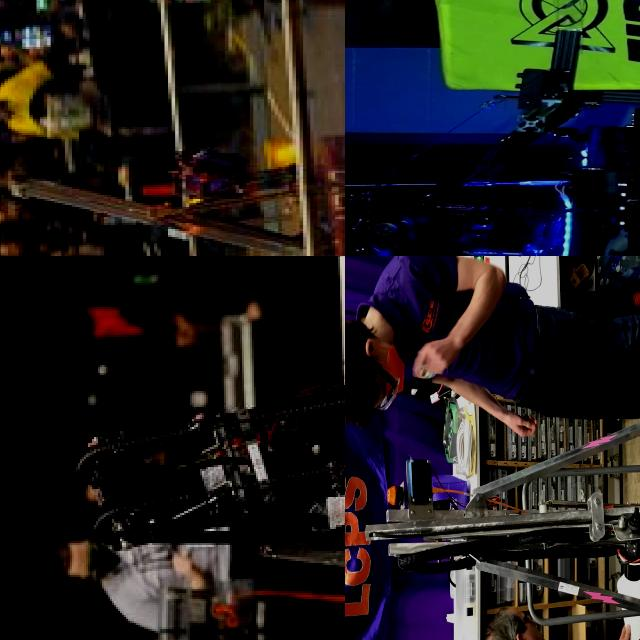FRC-Robots: (356, 261, 640, 640), (78, 256, 345, 640), (3, 116, 345, 256), (345, 95, 640, 256), (16, 0, 302, 38)
